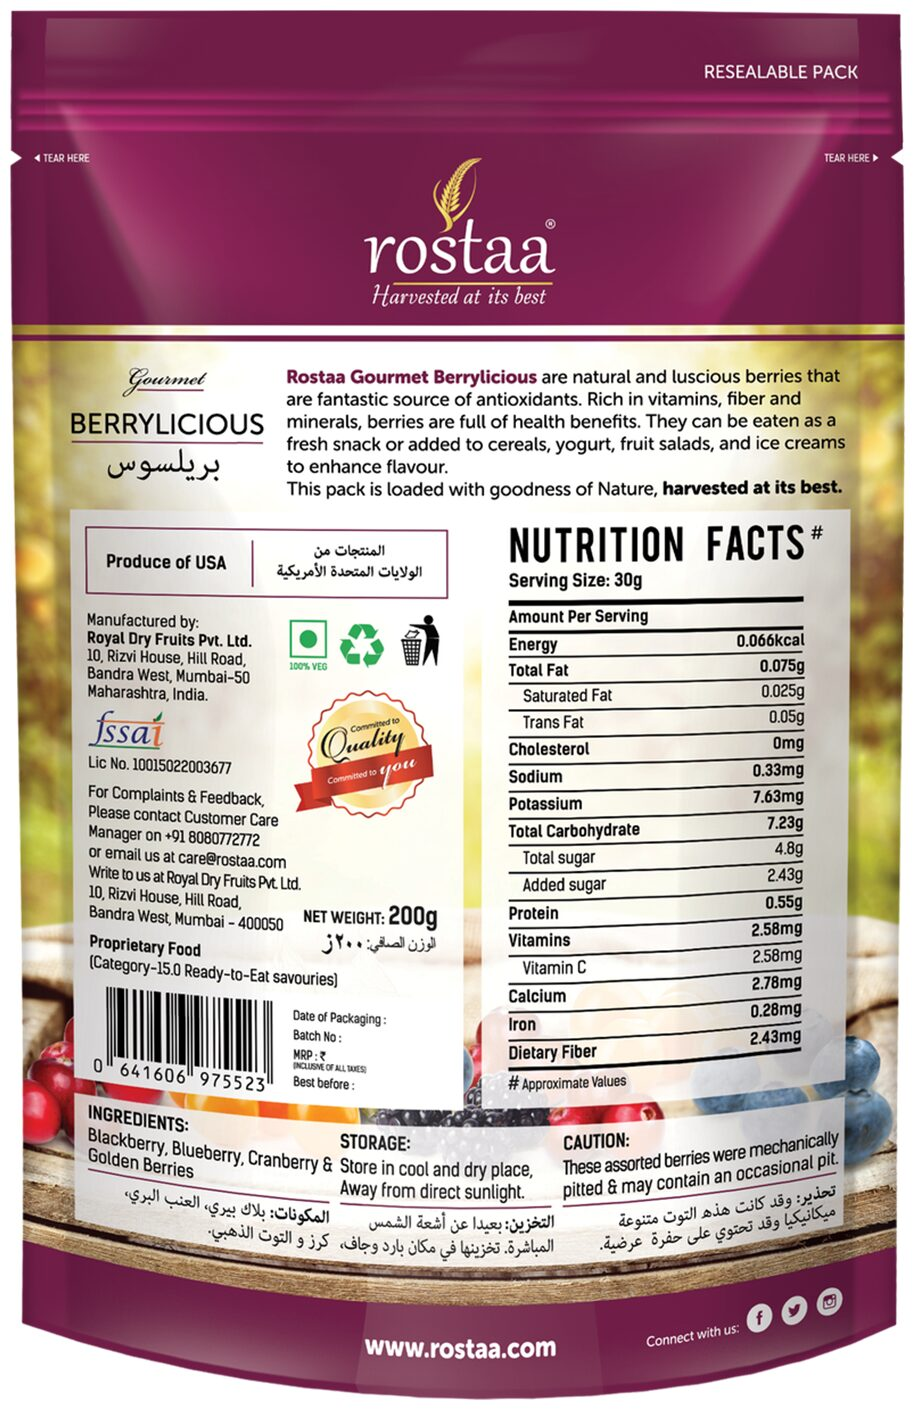fssai: (85, 708, 167, 751)
